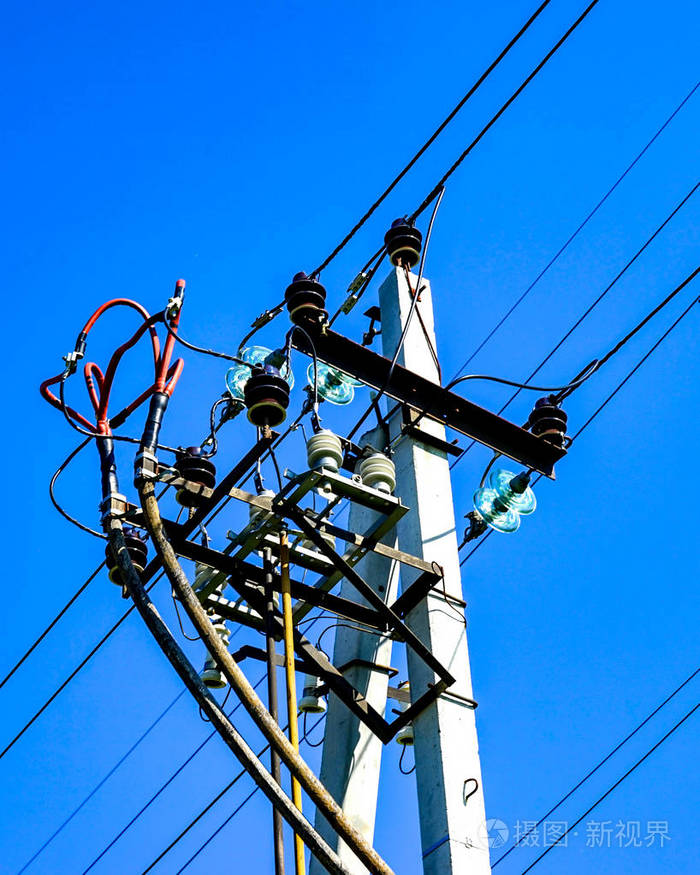insulator: (470, 471, 540, 537), (221, 344, 277, 396), (307, 359, 358, 406)
